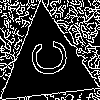C: (22, 38, 68, 80)
